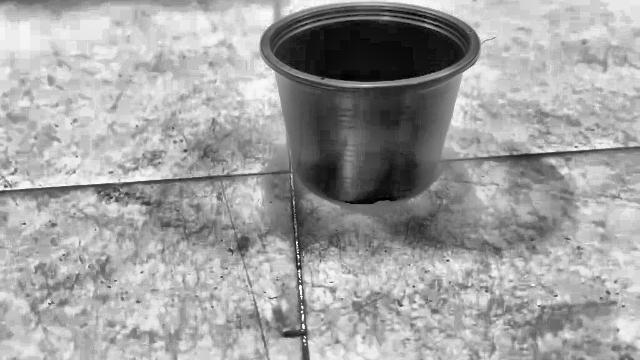pot: (260, 2, 480, 204)
